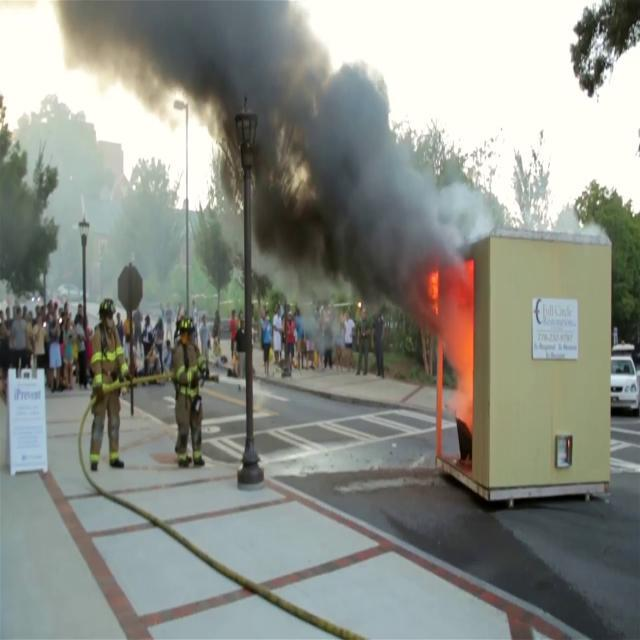Fire: (424, 260, 476, 424)
Smoke: (52, 0, 486, 300)
